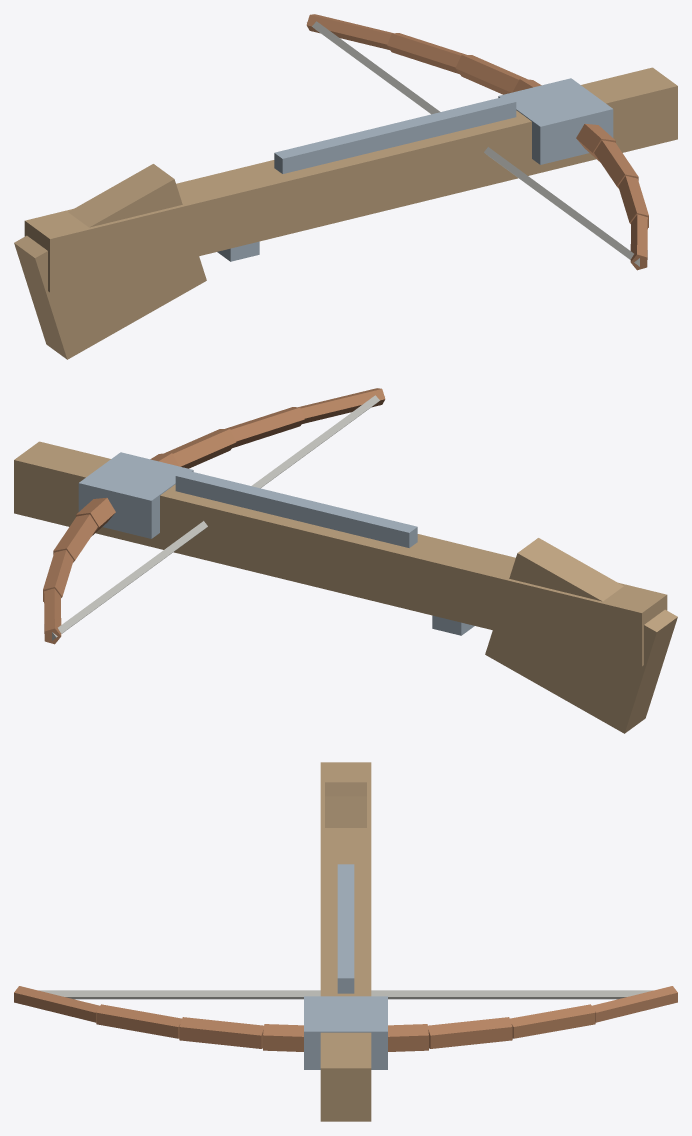
The model's file is wipe-day-survival-island-crossbow-f063a84a__27487.glb.
3 views of the same model, one above another, from view 1: azimuth 30°, elevation 25°; view 2: azimuth 150°, elevation 25°; view 3: azimuth 270°, elevation 25° (orthographic).
Visible parts, largest first — view 1: crossbow; view 2: crossbow; view 3: crossbow.
Part boxes in pixels (x1,y1,x2,y2): crossbow: [14, 14, 677, 359]; crossbow: [14, 388, 677, 733]; crossbow: [14, 762, 677, 1121].
Size of the model in its own units: 0.8777 by 0.2024 by 0.789.
